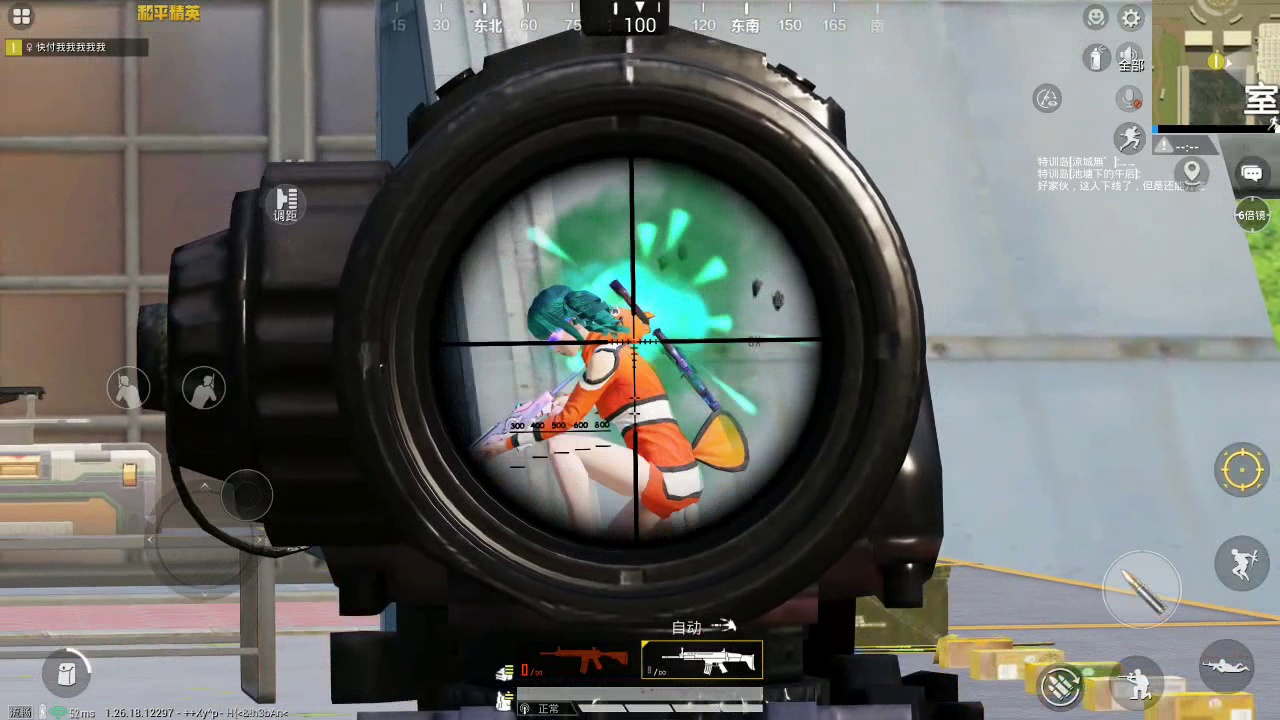enemy: (518, 289, 705, 529)
